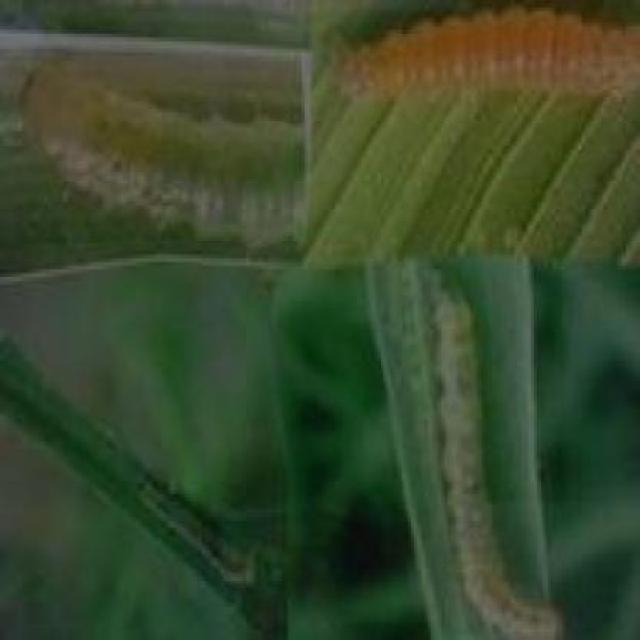leaf-folder: (29, 29, 303, 273), (397, 278, 577, 640), (332, 1, 640, 124), (93, 438, 289, 594)
